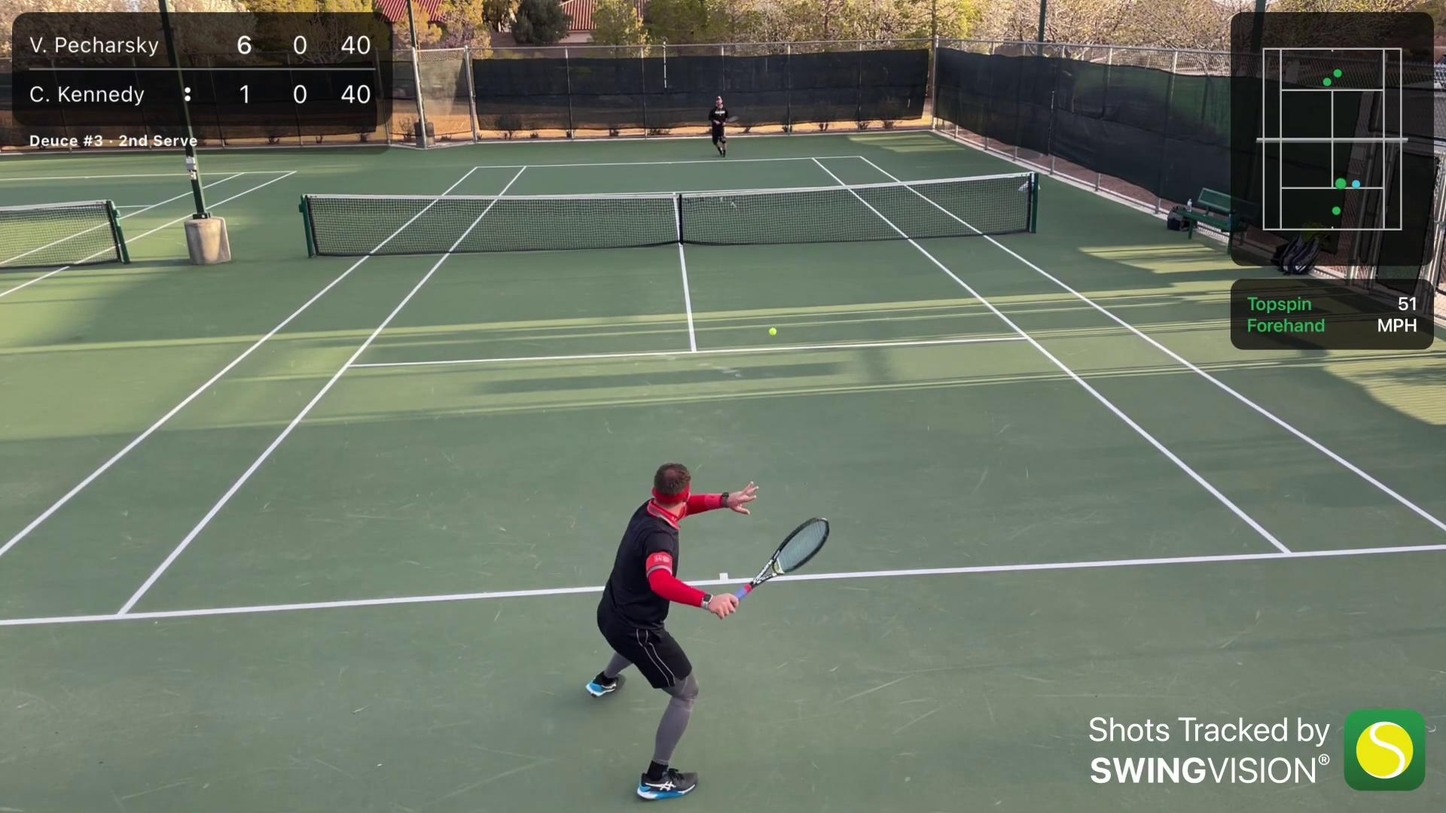ball: (767, 326, 780, 338)
